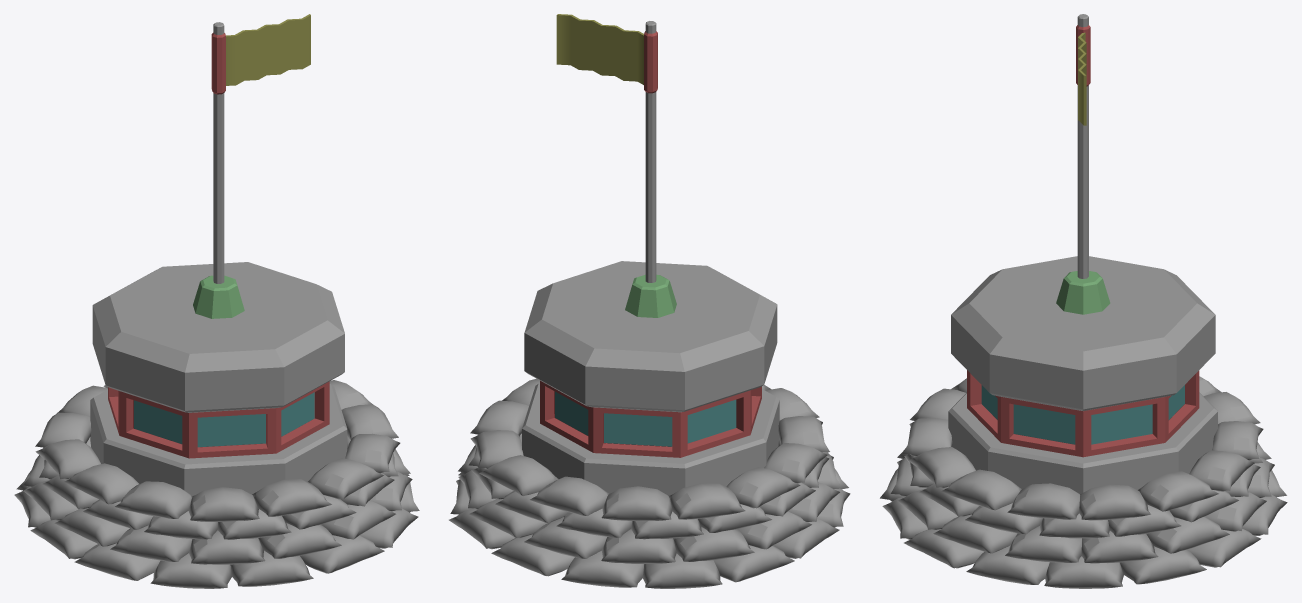
3 renders of one model, left to right at view 1: azimuth 30°, elevation 25°; view 2: azimuth 150°, elevation 25°; view 3: azimuth 270°, elevation 25°, orthographic.
Parts seen in each view (by area): view 1: statewars_base, statewars_base_bags_body, statewars_base_body, statewars_base_window, statewars_base_flag; view 2: statewars_base, statewars_base_bags_body, statewars_base_body, statewars_base_window, statewars_base_flag; view 3: statewars_base, statewars_base_bags_body, statewars_base_body, statewars_base_window, statewars_base_flag.
Part boxes in pixels (bbox=[...]): statewars_base: bbox=[23, 262, 412, 564]; statewars_base_bags_body: bbox=[14, 470, 419, 588]; statewars_base_body: bbox=[90, 384, 347, 495]; statewars_base_window: bbox=[108, 381, 329, 458]; statewars_base_flag: bbox=[193, 14, 310, 318]; statewars_base: bbox=[458, 261, 841, 563]; statewars_base_bags_body: bbox=[449, 468, 850, 588]; statewars_base_body: bbox=[522, 383, 779, 517]; statewars_base_window: bbox=[540, 380, 761, 457]; statewars_base_flag: bbox=[556, 14, 676, 317]; statewars_base: bbox=[890, 256, 1274, 563]; statewars_base_bags_body: bbox=[880, 468, 1287, 588]; statewars_base_body: bbox=[948, 392, 1217, 494]; statewars_base_window: bbox=[967, 370, 1199, 457]; statewars_base_flag: bbox=[1056, 14, 1110, 314].
Size of the model in its own units: 474 by 647 by 484.
